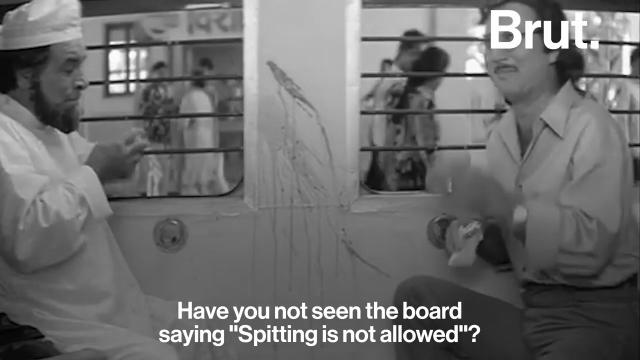spit: (257, 61, 395, 279)
